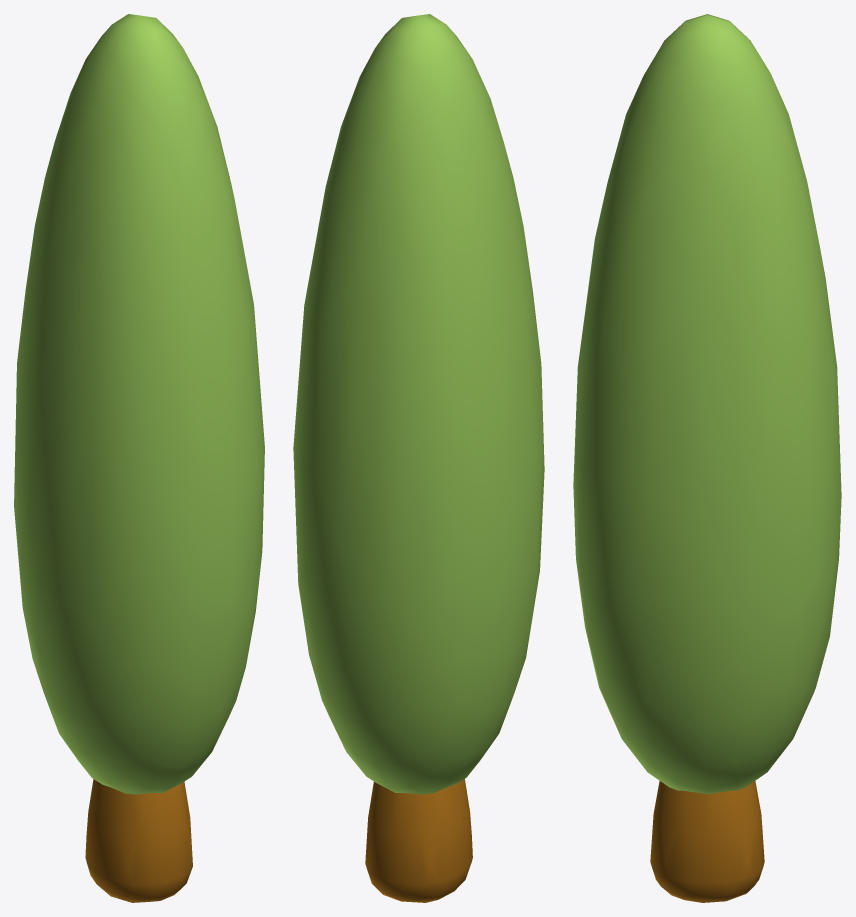
File: Tree_Solo.fbx
The picture shows the model from 3 angles, left to right: view 1: azimuth 30°, elevation 25°; view 2: azimuth 150°, elevation 25°; view 3: azimuth 270°, elevation 25°; orthographic projection.
Parts seen in each view (by area): view 1: Tree0; view 2: Tree0; view 3: Tree0.
Part boxes in pixels (x1,y1,x2,y2): Tree0: [14, 14, 264, 902]; Tree0: [293, 14, 544, 902]; Tree0: [573, 14, 841, 902].
Size of the model in its own units: 1.89 by 7.63 by 2.11.
